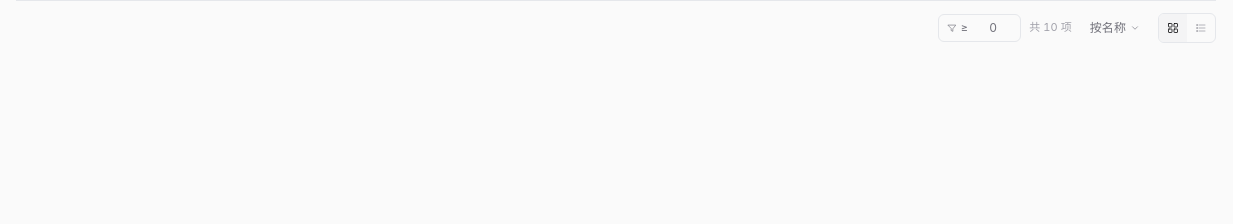
ListFilterBar - sort menu › 包含「按最近看」选项
The image size is (1233, 224).
# 打开 sort menu
Click the button with aria-label "排序" at (1115, 28), box [1080,14,1150,42]
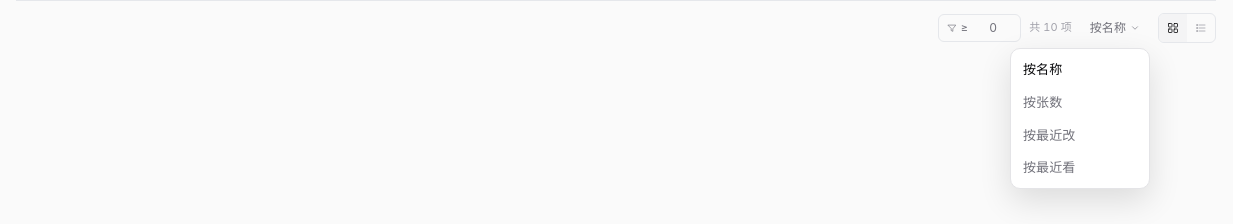
Check: the button "按最近看" is shown, box [1011,151,1149,184]
